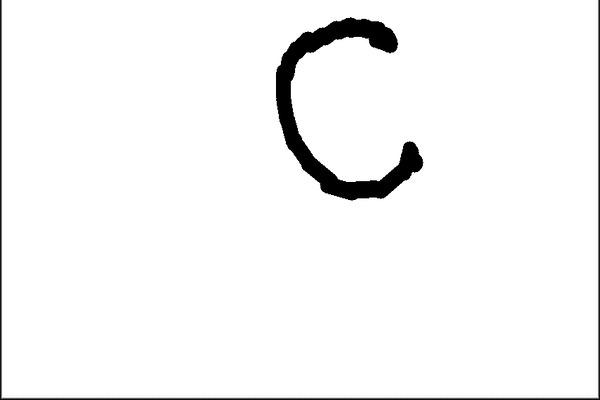C: (267, 11, 429, 205)
